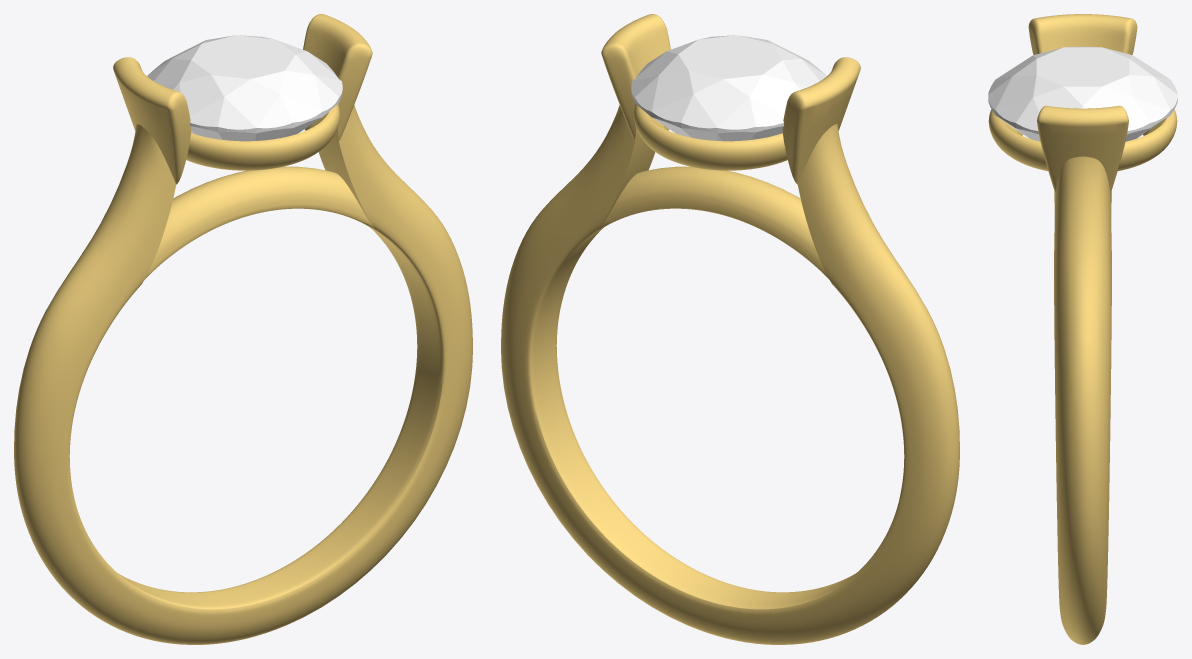
The model's file is EricPappasCathedral_webgi.glb.
The picture shows the model from 3 angles, left to right: view 1: azimuth 30°, elevation 25°; view 2: azimuth 150°, elevation 25°; view 3: azimuth 270°, elevation 25°; orthographic projection. The views are drawn at different scales.
Visible parts, largest first — view 1: cathedral_eric_YG_for_3d_model, twist_Eric_dia_for_3d_model; view 2: cathedral_eric_YG_for_3d_model, twist_Eric_dia_for_3d_model; view 3: cathedral_eric_YG_for_3d_model, twist_Eric_dia_for_3d_model.
Boxes of the visible parts, x1,y1,x2,y2 form: cathedral_eric_YG_for_3d_model: (14, 14, 472, 644); twist_Eric_dia_for_3d_model: (147, 35, 342, 141); cathedral_eric_YG_for_3d_model: (501, 14, 959, 644); twist_Eric_dia_for_3d_model: (631, 35, 826, 141); cathedral_eric_YG_for_3d_model: (988, 14, 1177, 644); twist_Eric_dia_for_3d_model: (988, 46, 1177, 141).
Bounding box in the file's own units: 2.45 × 3.02 × 0.9281.
